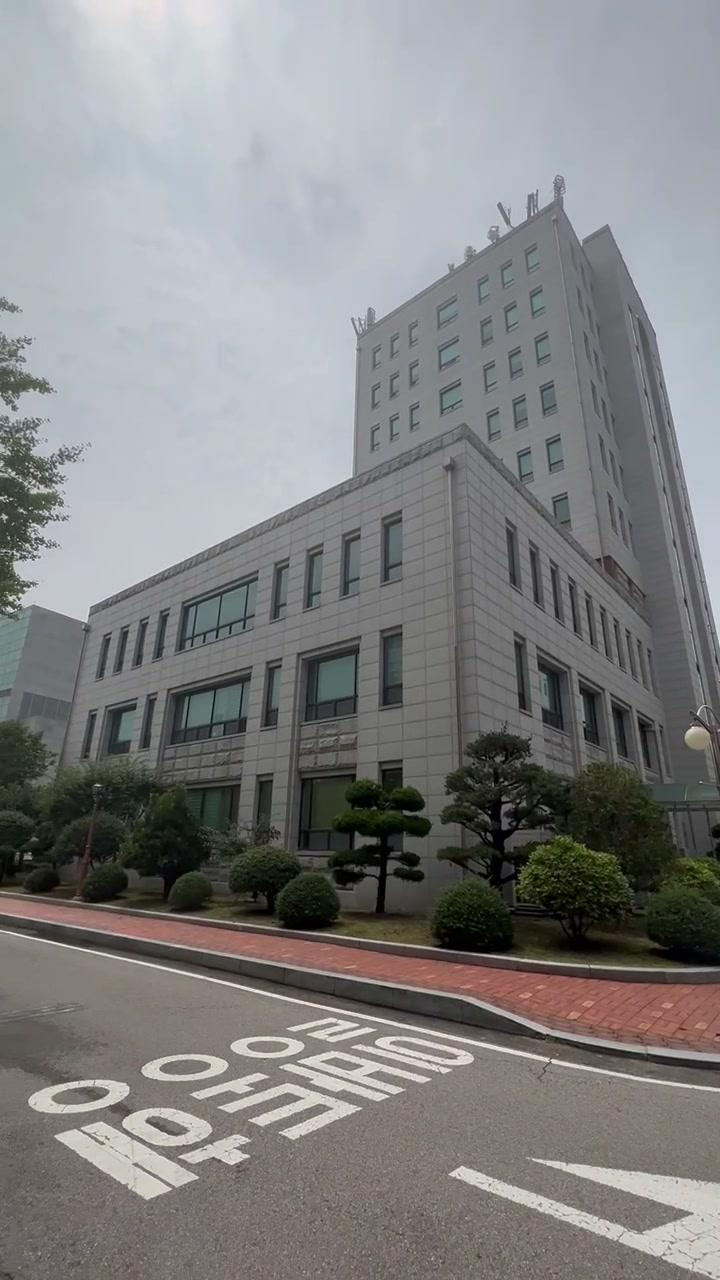building: (134, 238, 702, 732)
